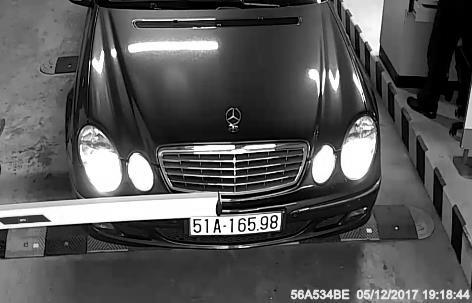License-plate: (189, 208, 290, 244)
